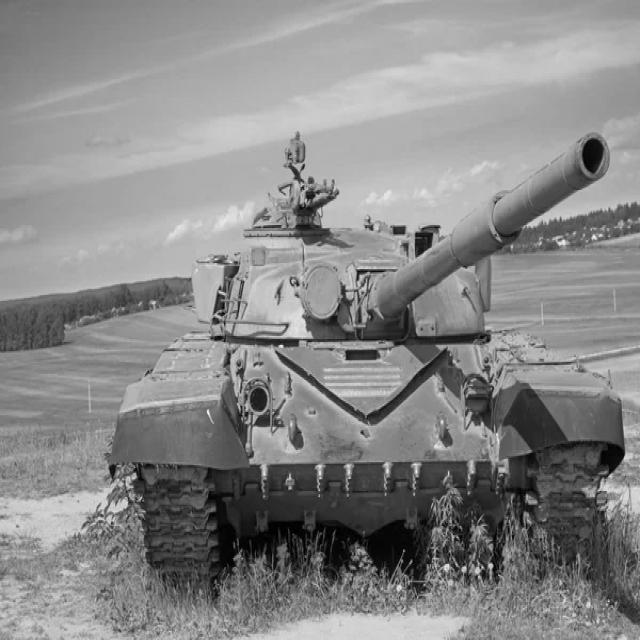Tank: (113, 129, 628, 594)
